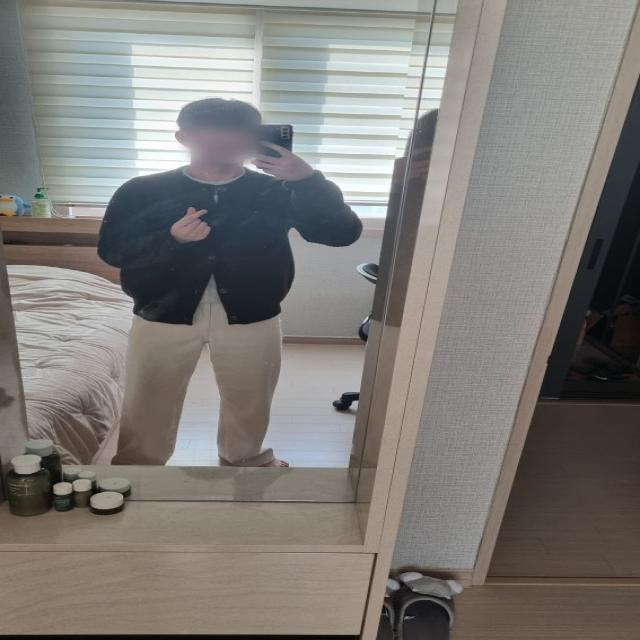cardigan: (93, 164, 360, 324)
cottonpants: (108, 275, 284, 470)
